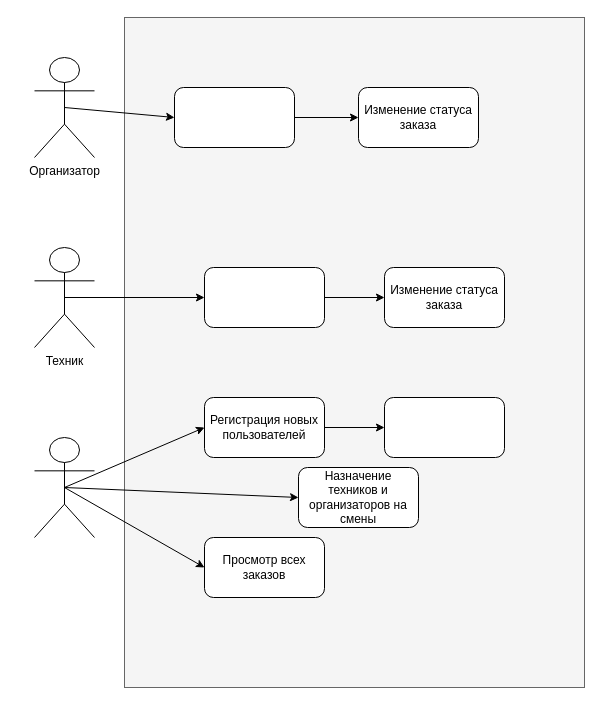
Image size: 602x705. Some labels were removed from this diagram. The centre of each missing label's shape, as x and y in pixels:
Заведующий подразделением: (x=64, y=487)
Перевод пользователей в статус "уволен": (x=444, y=427)
Просмотр заказов клиентов: (x=264, y=297)
Создание нового заказа: (x=234, y=117)
